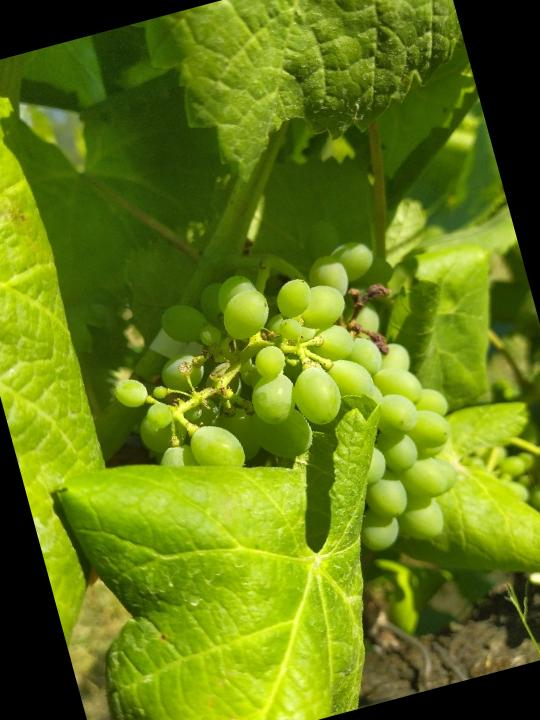grape: (79, 198, 483, 615)
